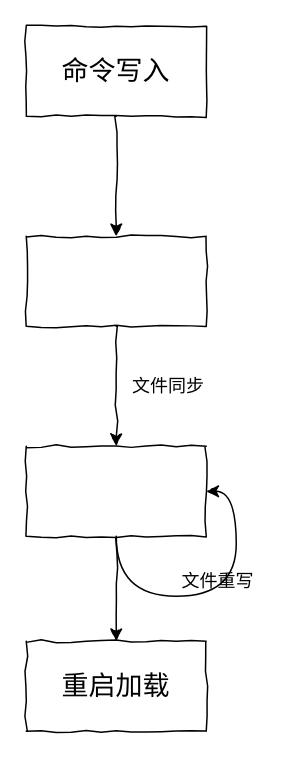
The diagram is 297 pixels wide and 758 high, and some of its shapes have lost their labels. The centre of each missing label's shape, as x and y in pixels:
"AOF文件" belongs at (x=115, y=490).
"AOF缓冲" belongs at (x=115, y=280).
